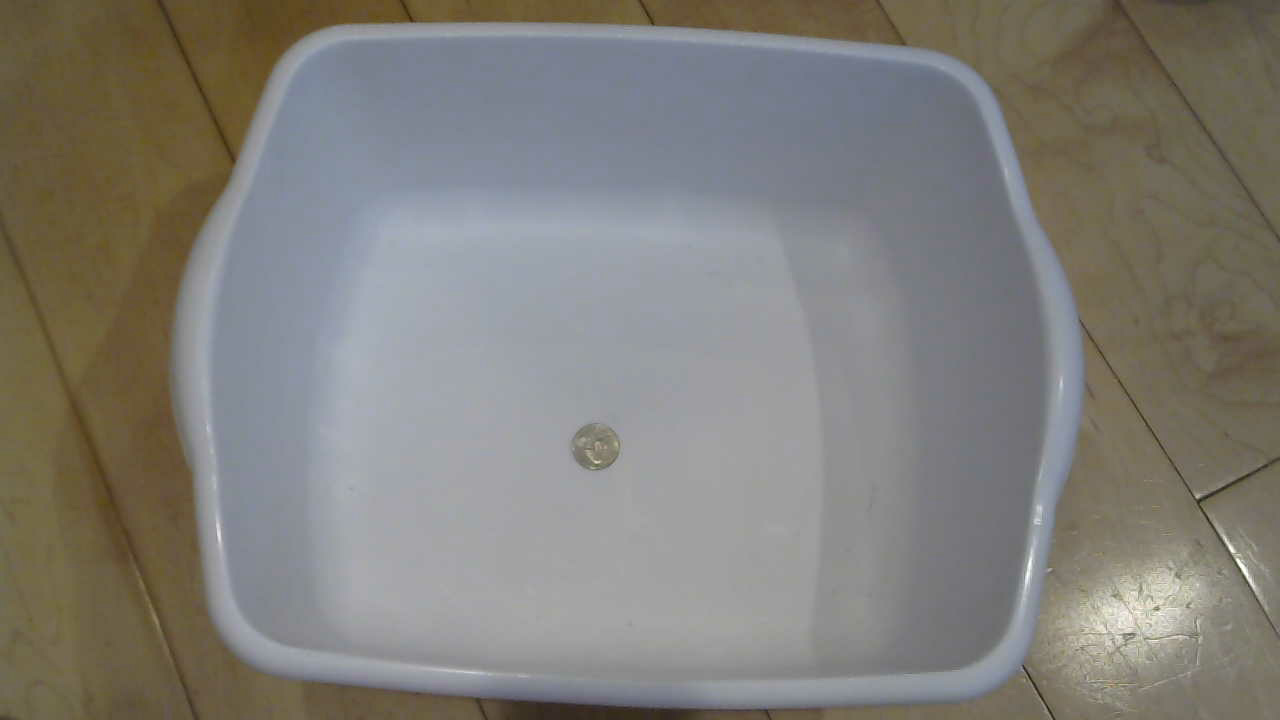coin: (568, 425, 632, 484)
